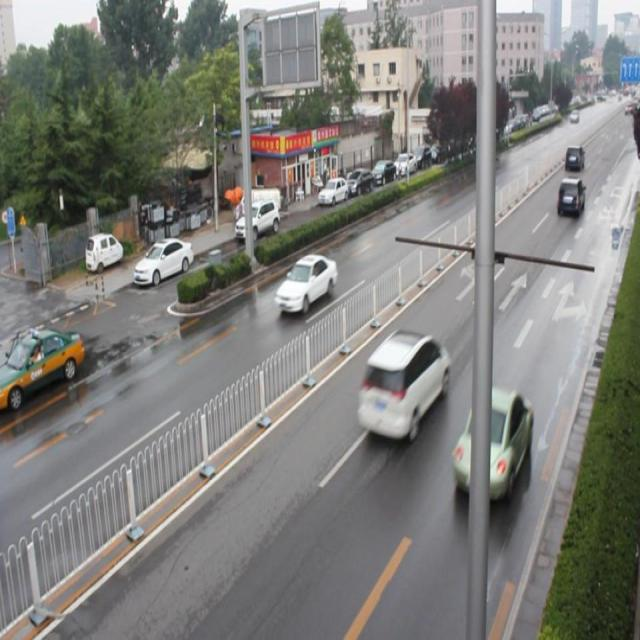car: (357, 328, 452, 447), (450, 384, 533, 503), (274, 255, 336, 316)
truck: (555, 176, 583, 219)
